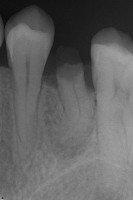Furcation Involvement: (49, 131, 92, 161)
